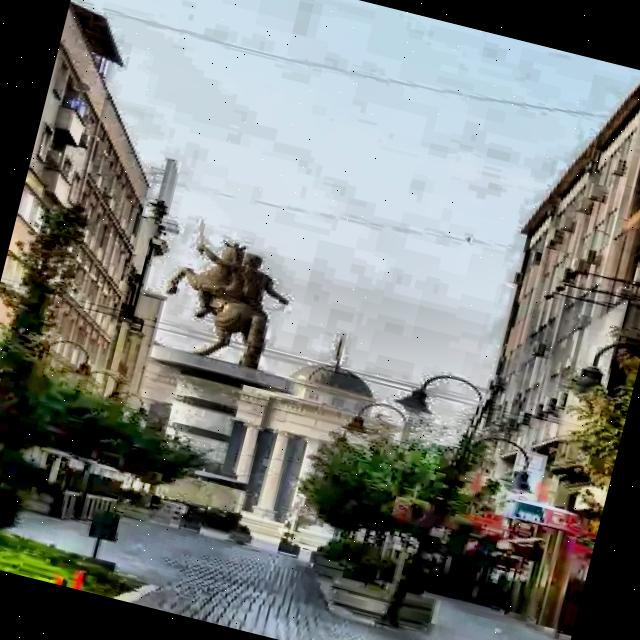alexander the great monument: (119, 220, 336, 502)
